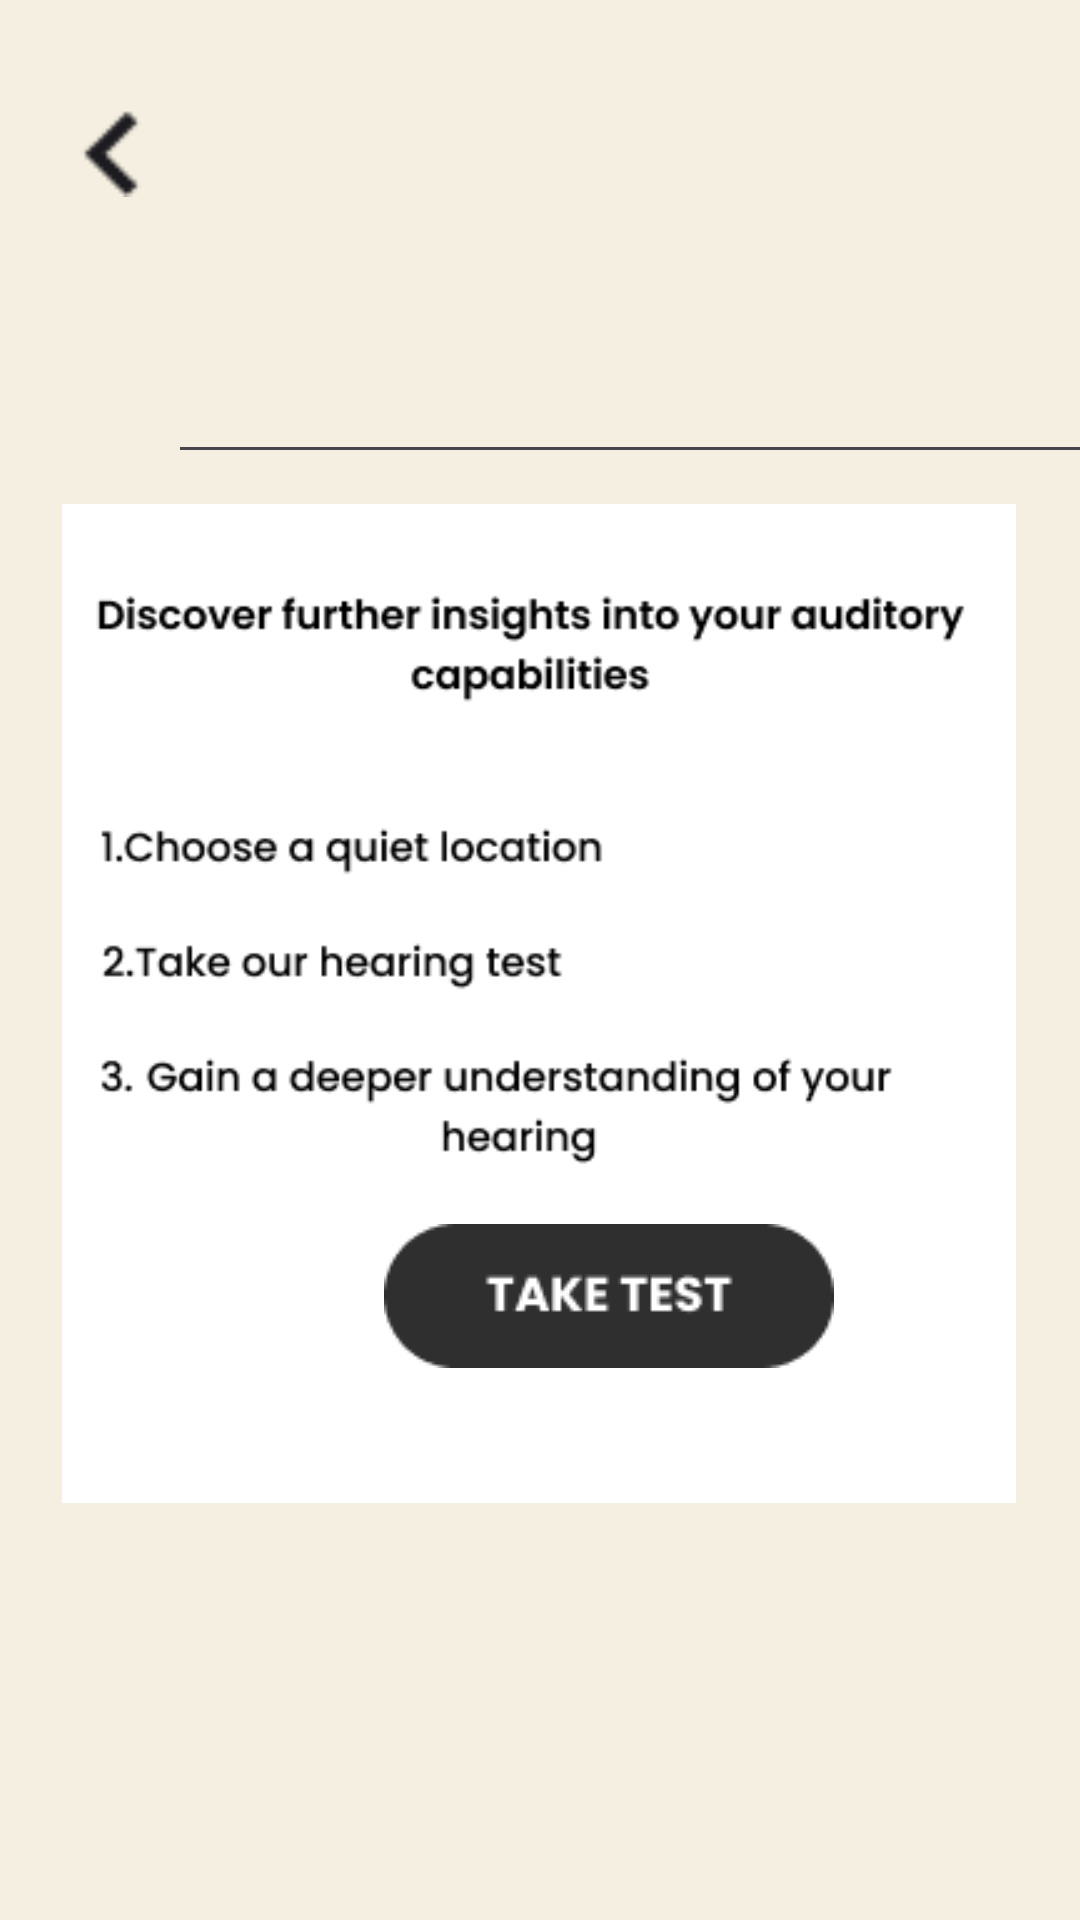

Screen size 1080 × 1920. Icon name, then its box in pixels as (x1, y1, x2, y2):
backarrow: (84, 111, 138, 197)
